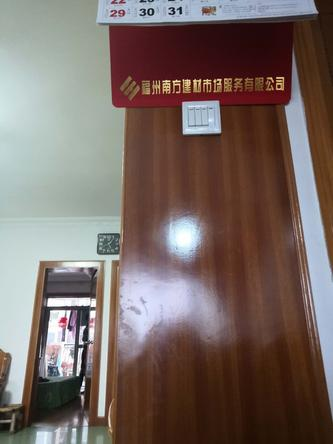switch: (210, 108, 221, 130), (195, 105, 203, 126), (203, 105, 210, 126), (188, 105, 192, 123)
